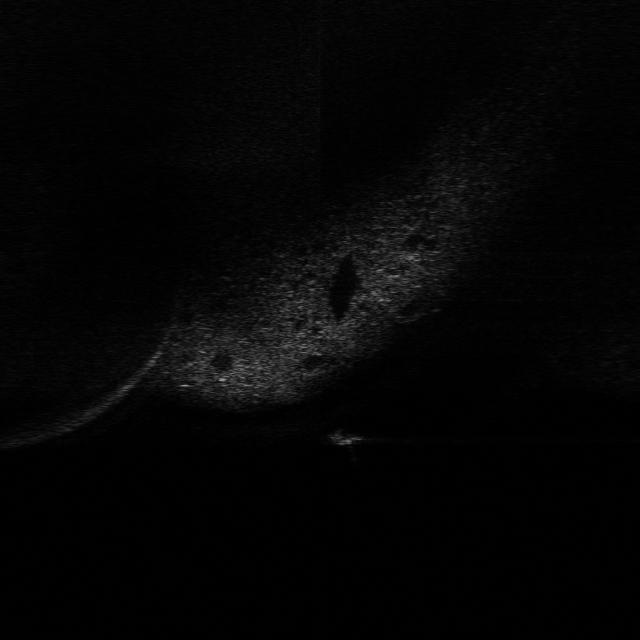cube: (323, 424, 368, 450)
